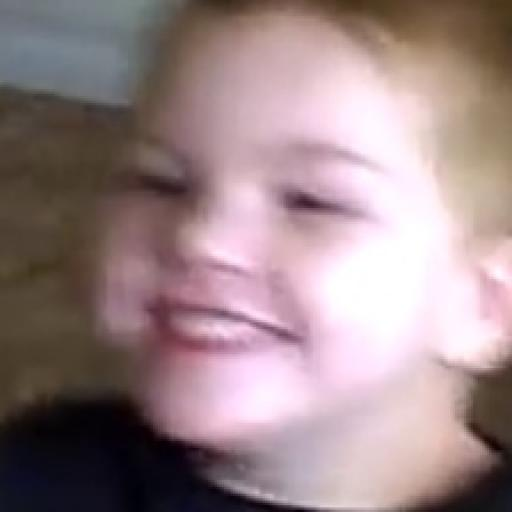Autism: (87, 6, 455, 496)
